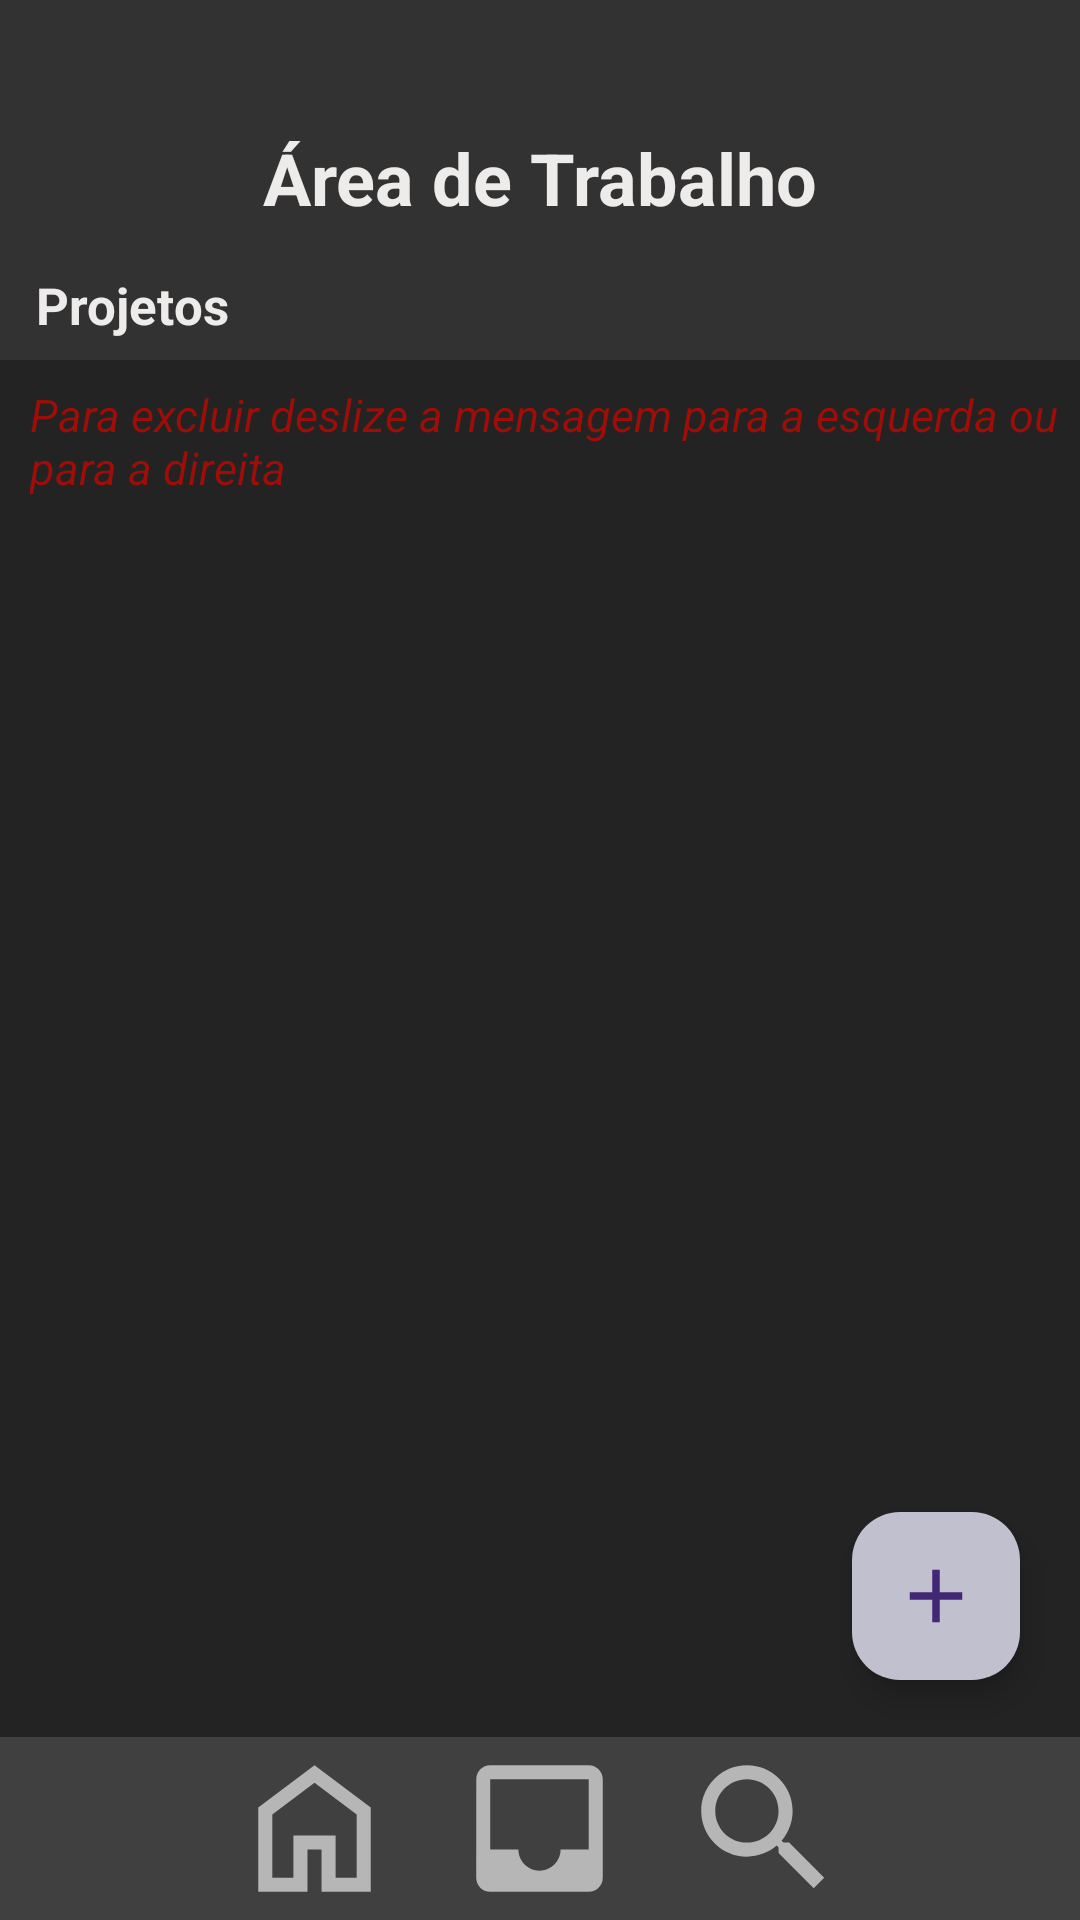

Where to tap for icons on this 1080w x 1920h app screen, as point (x, y):
home: point (314, 1828)
inbox: point (539, 1828)
plus: point (936, 1596)
search: point (762, 1826)
